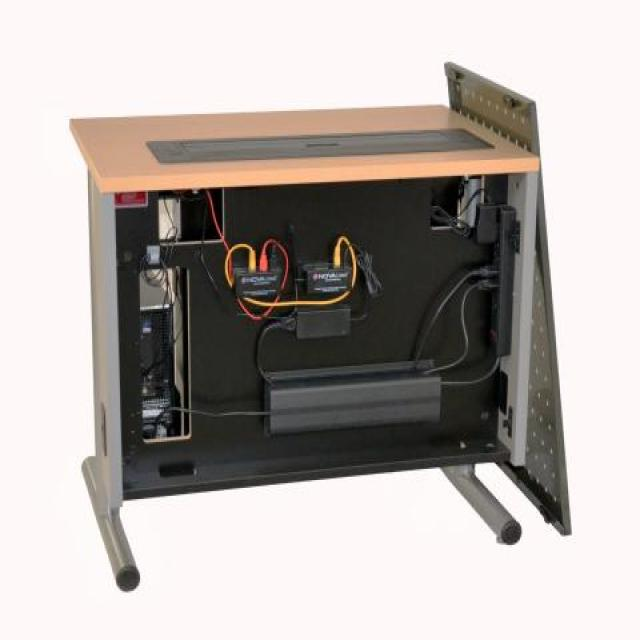electronics: (71, 65, 567, 588), (412, 181, 515, 368), (223, 234, 360, 347), (432, 201, 519, 355), (263, 361, 440, 431), (224, 234, 360, 320), (147, 128, 488, 162), (412, 265, 495, 368), (256, 304, 351, 383), (140, 271, 183, 437), (475, 204, 515, 355), (444, 464, 520, 543), (223, 234, 287, 320), (140, 304, 172, 437), (224, 238, 287, 298), (491, 204, 516, 355), (156, 187, 219, 241), (156, 190, 219, 241), (112, 190, 163, 253), (303, 234, 355, 295), (160, 190, 219, 241), (432, 177, 484, 234), (140, 307, 171, 374), (172, 269, 187, 401), (232, 258, 279, 298), (140, 304, 168, 368), (300, 261, 352, 295), (296, 304, 348, 337), (180, 192, 215, 238), (232, 268, 280, 298), (303, 261, 351, 291), (456, 174, 483, 225), (143, 391, 171, 437), (432, 204, 471, 234), (355, 249, 380, 295), (143, 394, 168, 437), (496, 372, 512, 437), (159, 192, 180, 239), (475, 204, 495, 241), (112, 190, 148, 208), (156, 461, 195, 477), (363, 253, 379, 291), (363, 253, 379, 288), (172, 413, 188, 434), (147, 244, 159, 265), (216, 195, 223, 228), (211, 198, 219, 225), (207, 198, 215, 220), (148, 247, 159, 261), (211, 201, 216, 217), (475, 228, 484, 234), (475, 271, 484, 274), (479, 238, 484, 241), (140, 262, 143, 264)
